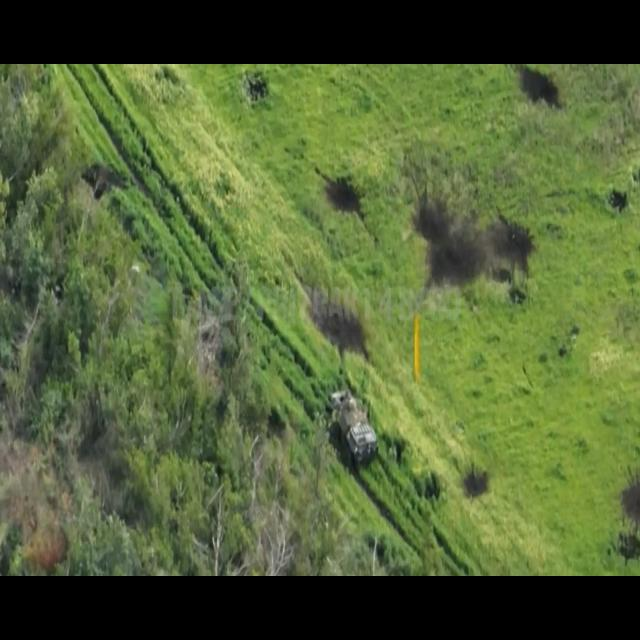MBT: (328, 381, 381, 462)
